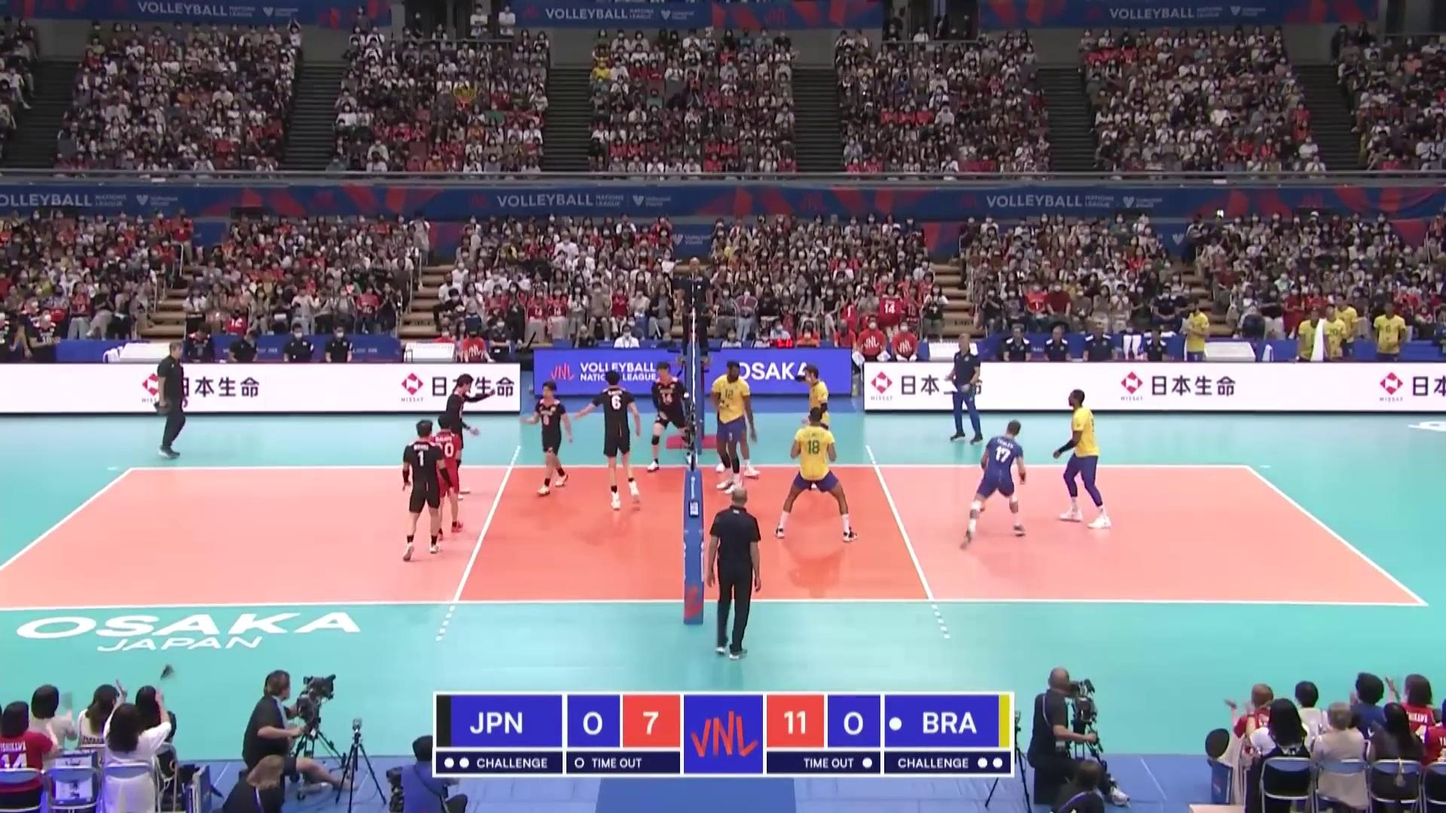player: (775, 409, 857, 541), (959, 421, 1028, 543), (587, 373, 644, 507), (1054, 391, 1108, 525), (398, 419, 446, 560), (791, 362, 834, 485), (439, 374, 480, 502), (426, 416, 467, 540), (714, 370, 760, 478), (649, 358, 692, 470), (529, 380, 570, 495), (712, 362, 747, 496)
refree: (705, 487, 762, 658), (676, 254, 711, 351)
